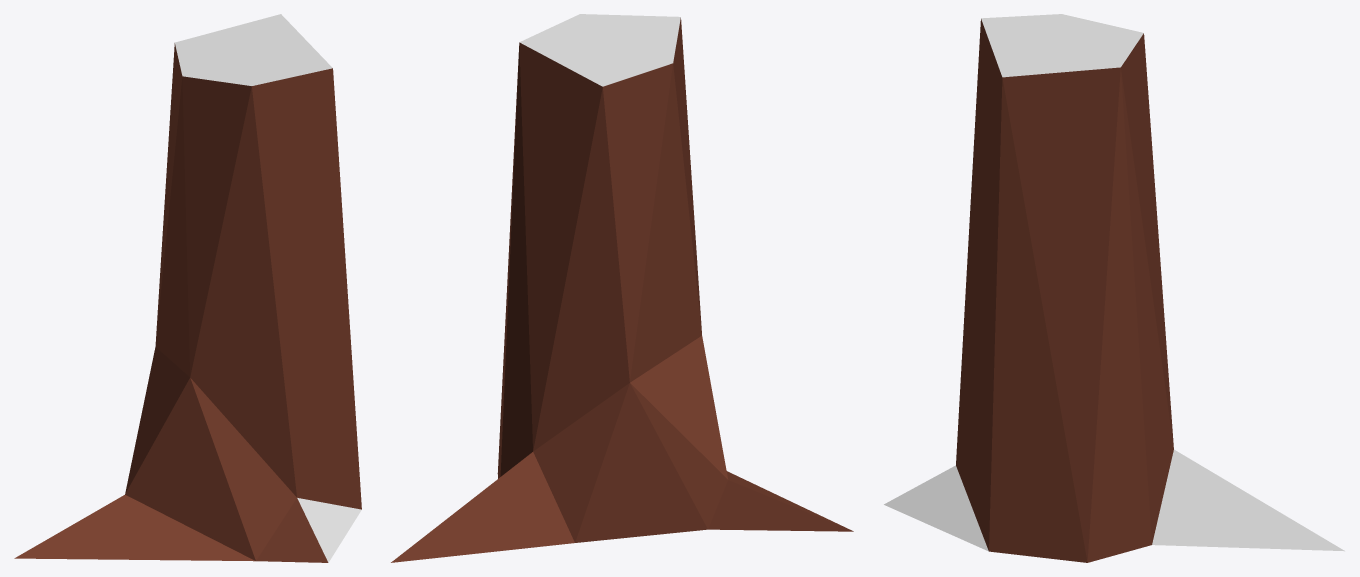
The model's file is pine_trunk_type_6_extra_LOD3.fbx.
The picture shows the model from 3 angles, left to right: view 1: azimuth 30°, elevation 25°; view 2: azimuth 150°, elevation 25°; view 3: azimuth 270°, elevation 25°; orthographic projection. The views are drawn at different scales.
Visible parts, largest first — view 1: pt_type_6.002; view 2: pt_type_6.002; view 3: pt_type_6.002.
Boxes of the visible parts, x1,y1,x2,y2 form: pt_type_6.002: (14, 14, 361, 562); pt_type_6.002: (391, 14, 853, 562); pt_type_6.002: (884, 14, 1344, 562).
Size of the model in its own units: 324 by 419 by 365.
